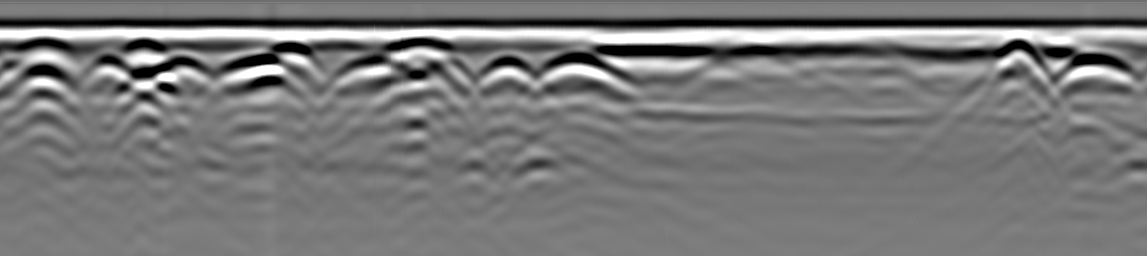pipe: (11, 34, 73, 74), (393, 35, 459, 67), (993, 37, 1045, 75), (258, 38, 322, 68), (117, 34, 171, 66)
steel: (539, 49, 623, 90), (1056, 52, 1133, 90), (224, 52, 295, 90), (476, 52, 543, 87), (340, 56, 401, 88), (155, 54, 207, 80), (86, 50, 128, 77)
